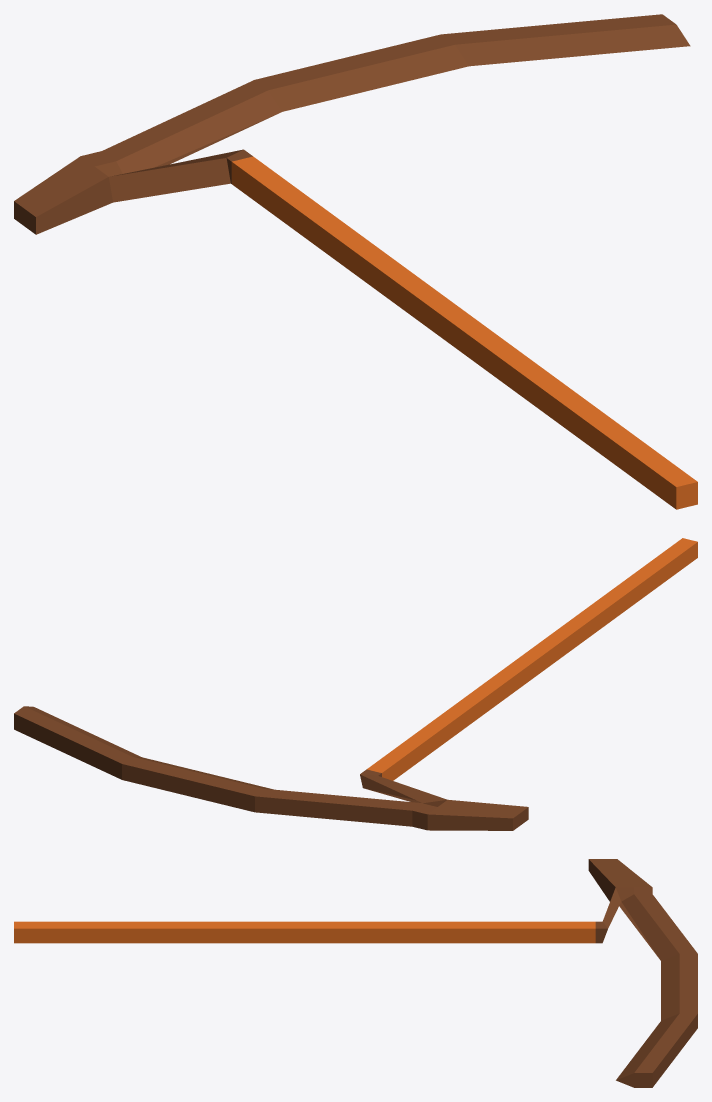
The model's file is bronze_sythe.glb.
The picture shows the model from 3 angles, top to bottom: view 1: azimuth 30°, elevation 25°; view 2: azimuth 150°, elevation 25°; view 3: azimuth 270°, elevation 25°; orthographic projection. The views are drawn at different scales.
Parts seen in each view (by area): view 1: Cube; view 2: Cube; view 3: Cube.
Boxes of the visible parts, x1,y1,x2,y2 form: Cube: (14,14,697,509); Cube: (14,538,697,830); Cube: (14,859,697,1087).
Bounding box in the file's own units: 14.46 × 0.4621 × 19.39.
